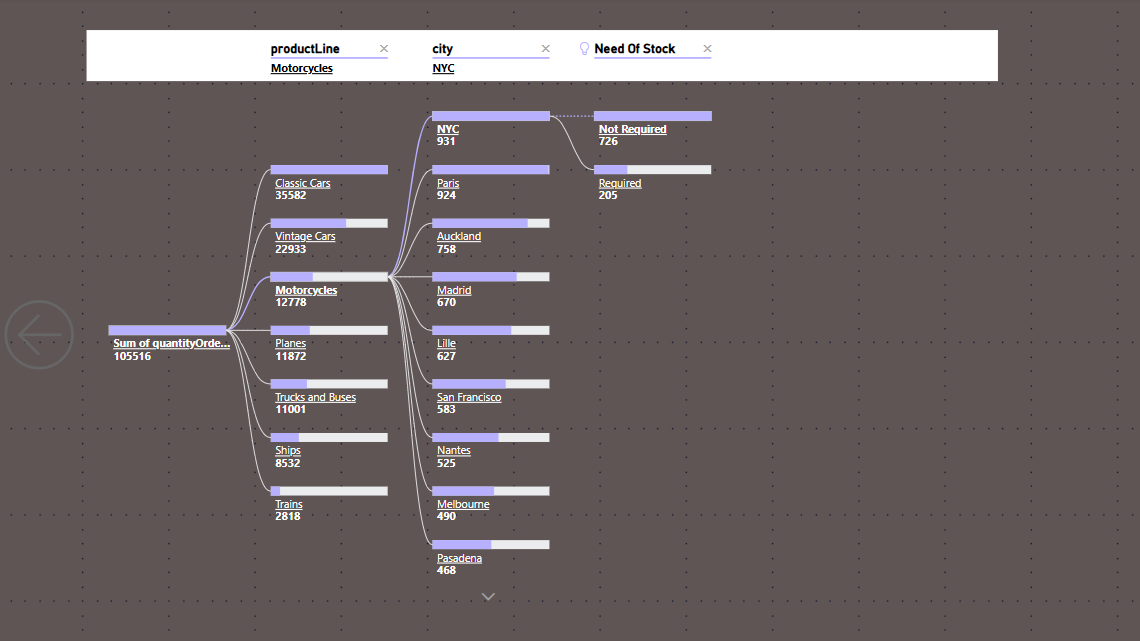

What the dashboard file says about the page in this screenshot:
{"tool":"powerbi","page":{"name":"D_Tree","canvas":[1280,720],"ordinal":2},"visuals":[{"type":"decompositionTreeVisual","fields":{"Analyze":["Sum(order details.quantityOrdered)"],"ExplainBy":["productlines.productLine","customers.city","products.Need Of Stock"]},"box":[16,0,1264,720],"z":0},{"type":"actionButton","box":[0,0,96,112],"z":1000}]}

Visuals, with their boxes in screenshot pixels (x1, y1, x2, y2), scaled from the page's 1280x720 canvas onto the 1140x641 screenshot:
decompositionTreeVisual - Sum(order details.quantityOrdered) x productlines.productLine: left=14, top=0, right=1139, bottom=640
actionButton: left=0, top=0, right=86, bottom=100
